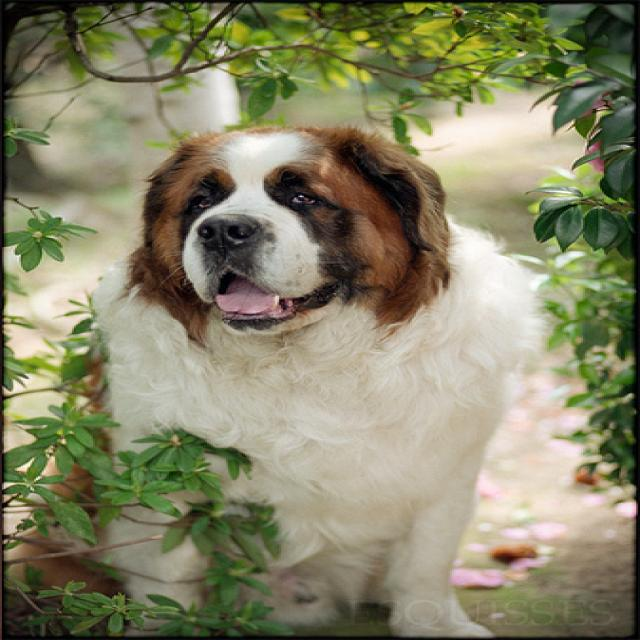dog-saint_bernard: (87, 113, 555, 637)
